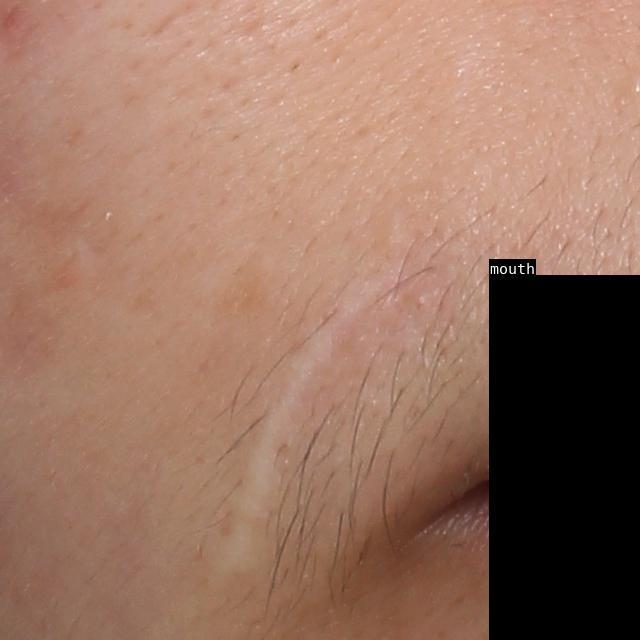comedo: (407, 291, 427, 311)
other: (222, 264, 391, 588)
